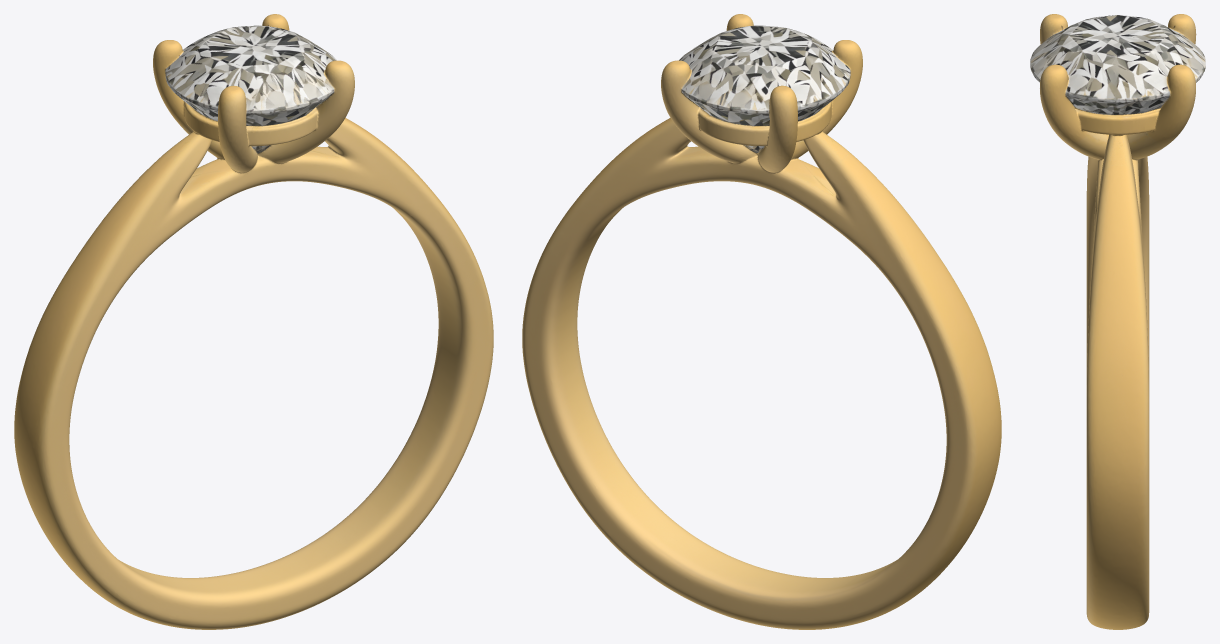
File: anillo.glb
3 views of the same model, side by side, from view 1: azimuth 30°, elevation 25°; view 2: azimuth 150°, elevation 25°; view 3: azimuth 270°, elevation 25° (orthographic).
Size of the model in its own units: 1.6 by 1.9 by 0.5311.
Materials: 1 (1 with a texture image).
